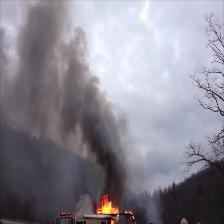fire: (99, 199, 119, 215)
smoke: (21, 12, 83, 114), (87, 88, 121, 190)
